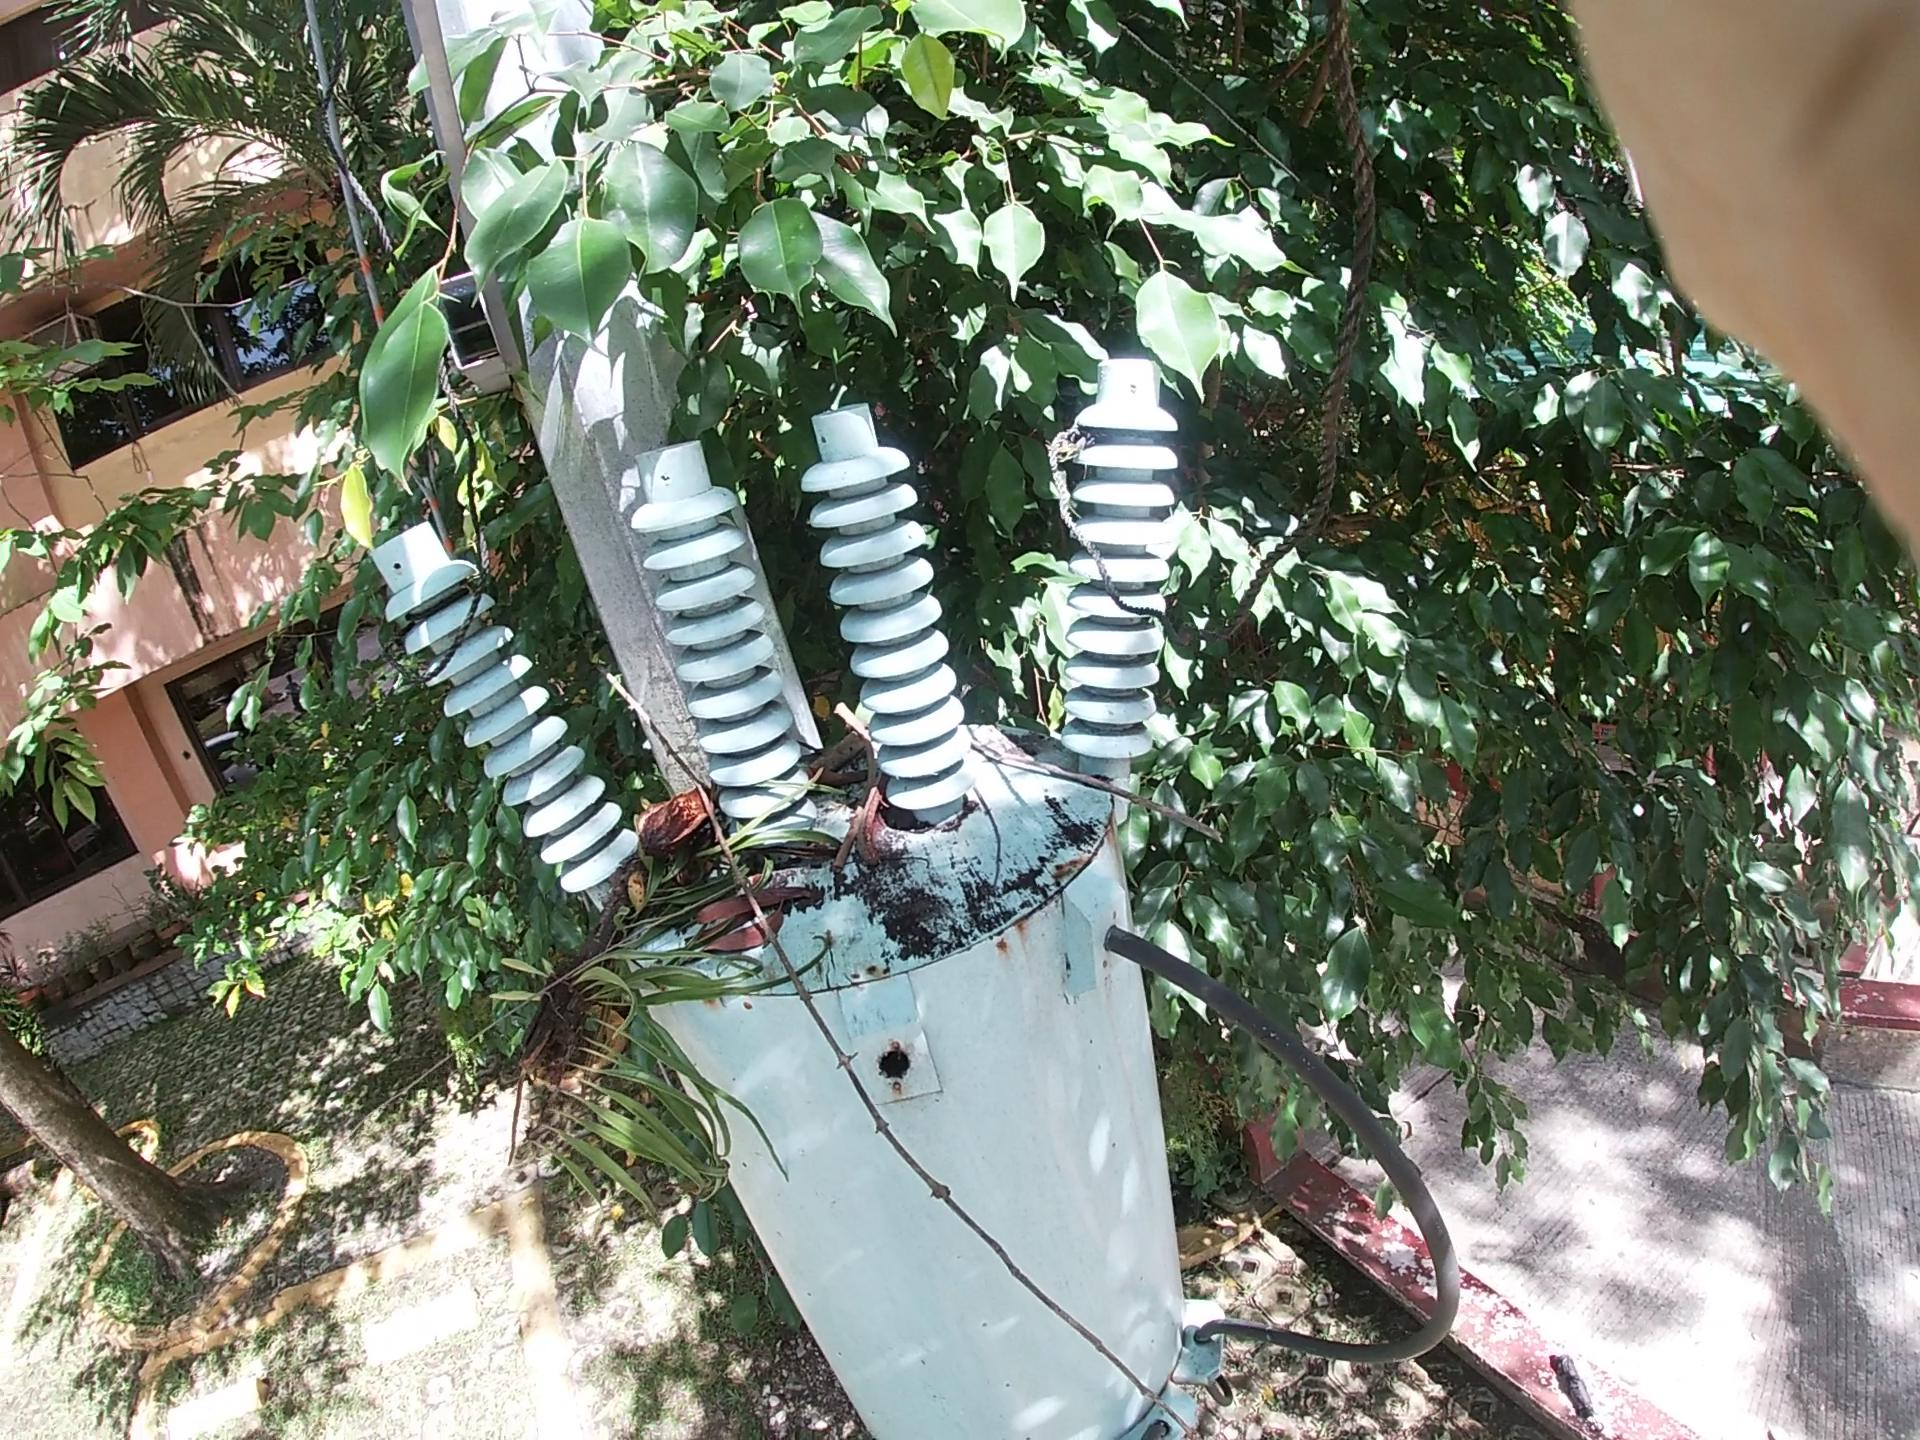branch with leaves: (517, 717, 821, 1175)
leaf: (720, 861, 831, 1009)
mahogany fruit: (621, 773, 828, 877), (841, 735, 957, 914)
tree branch: (652, 720, 1108, 1357), (962, 693, 1185, 895), (800, 638, 928, 961)
